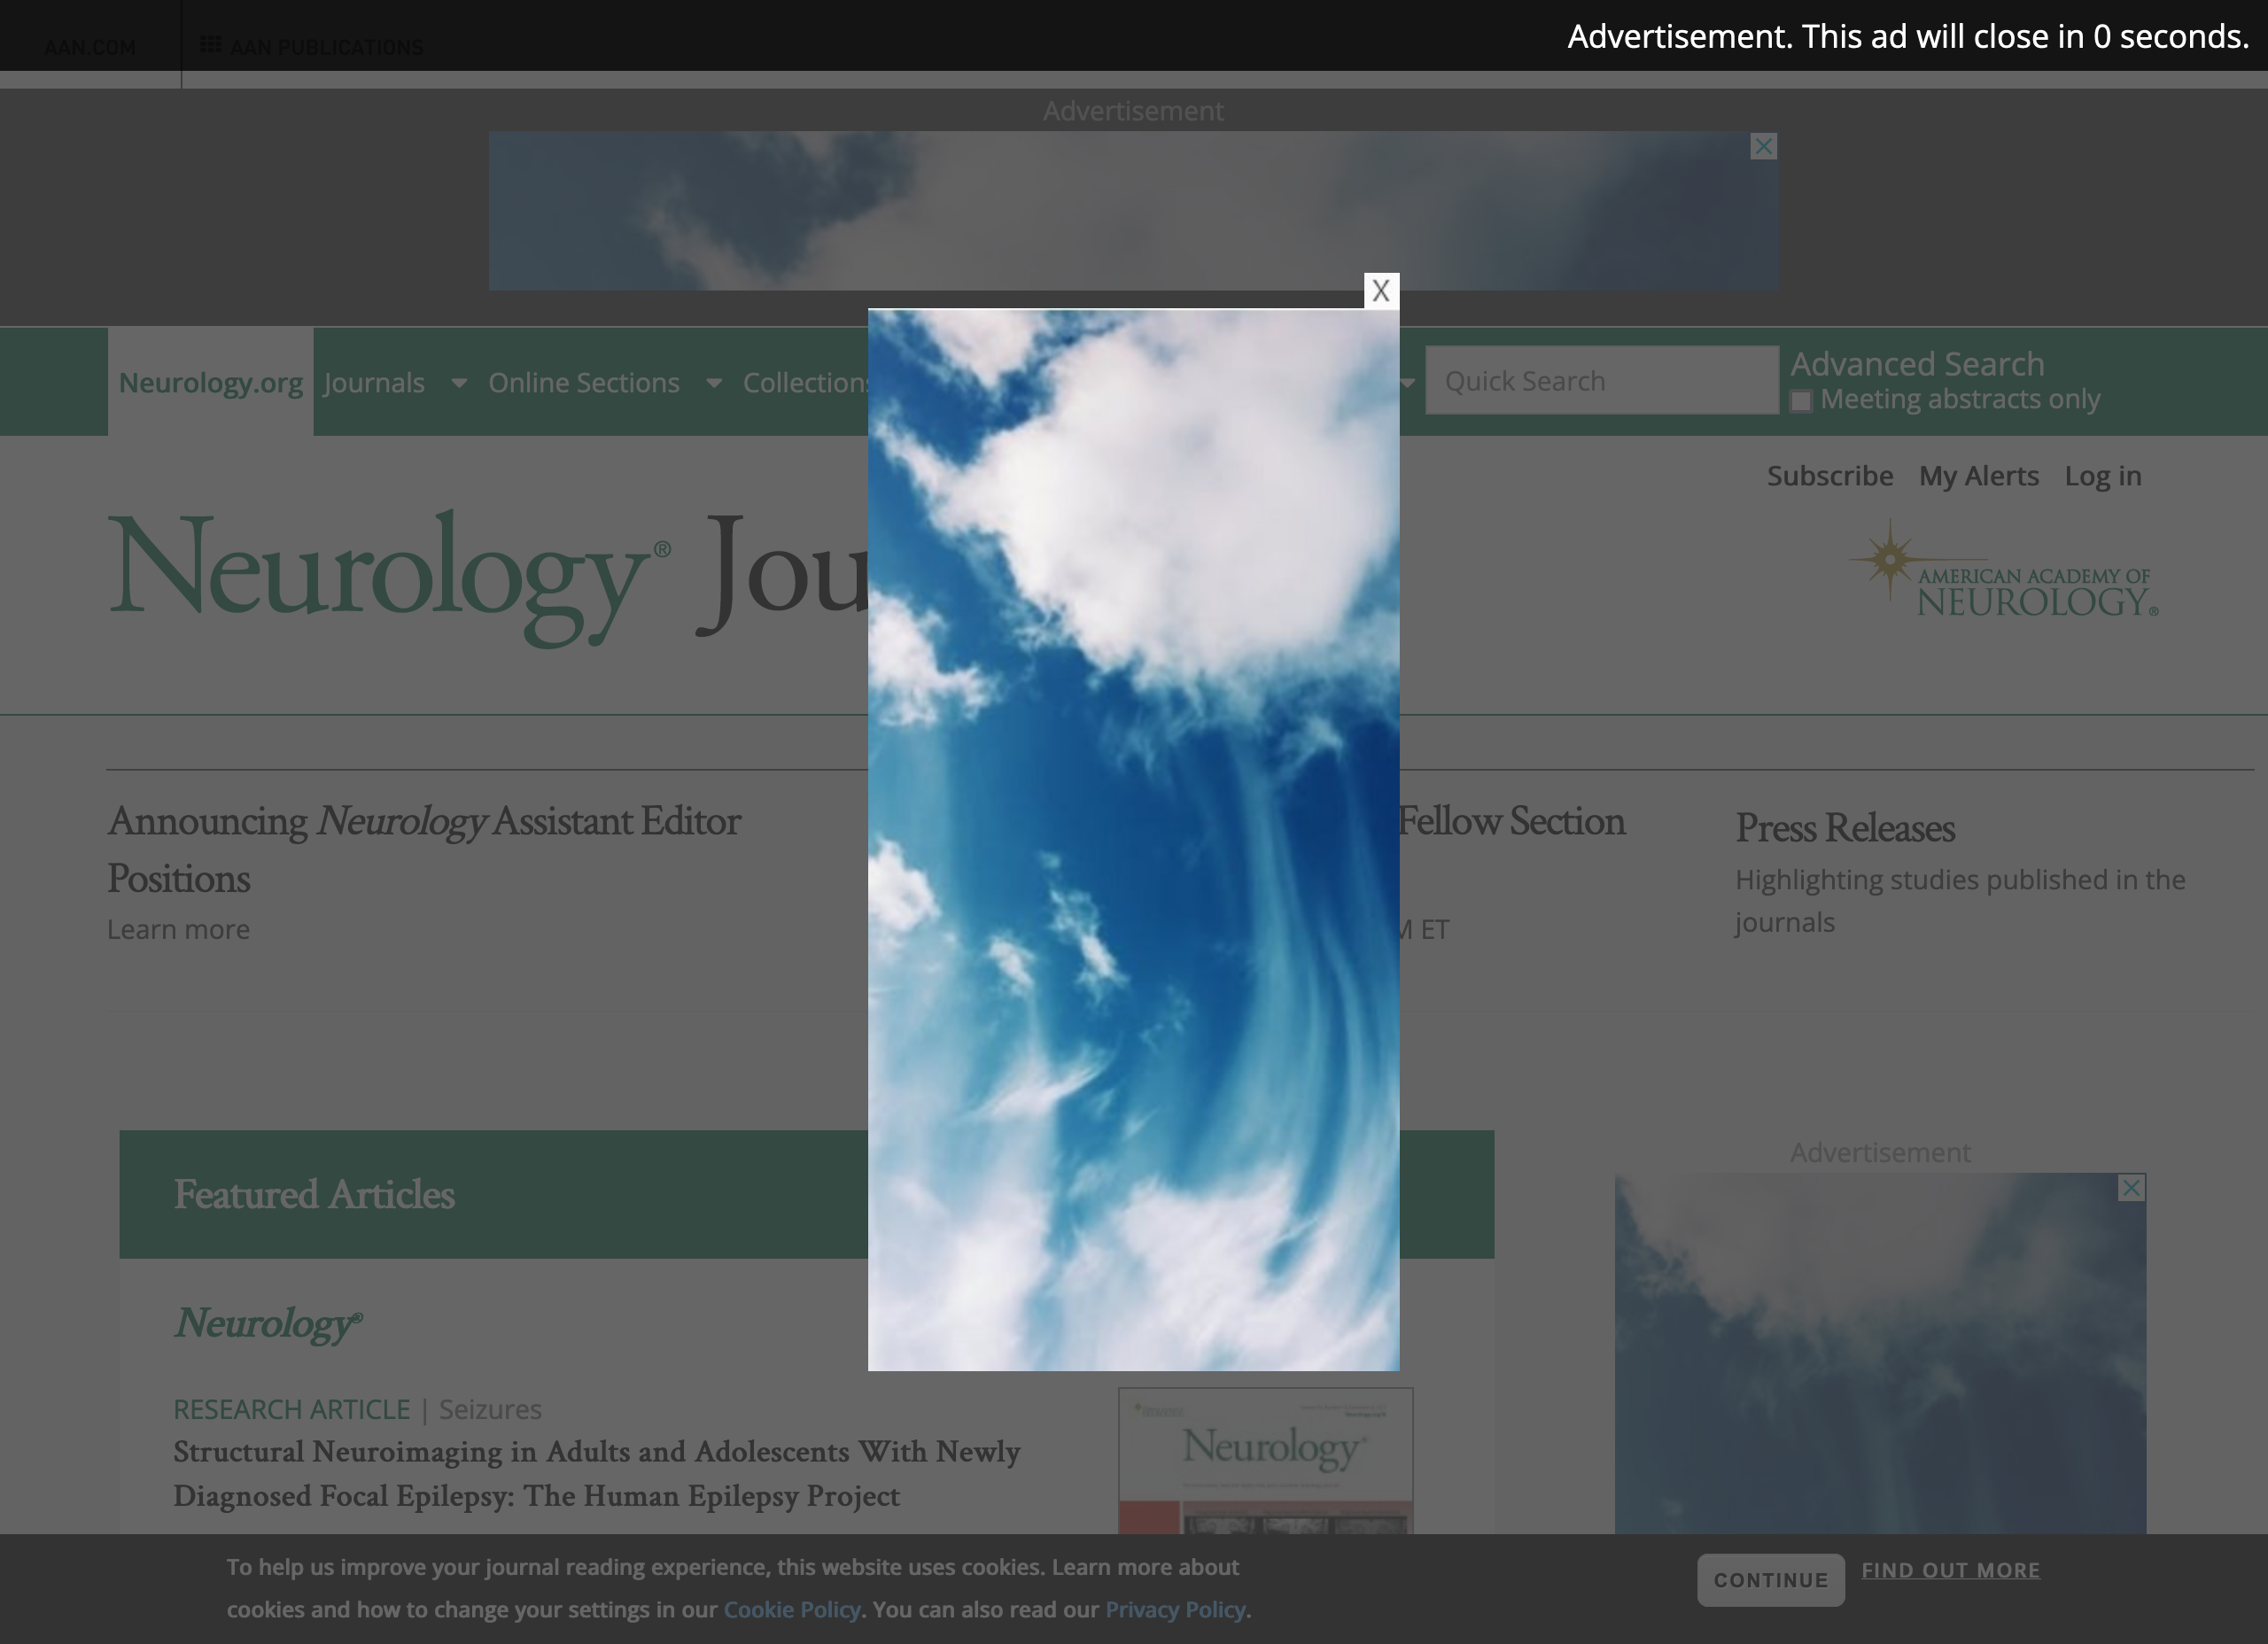Login: (2057, 452, 2159, 500)
